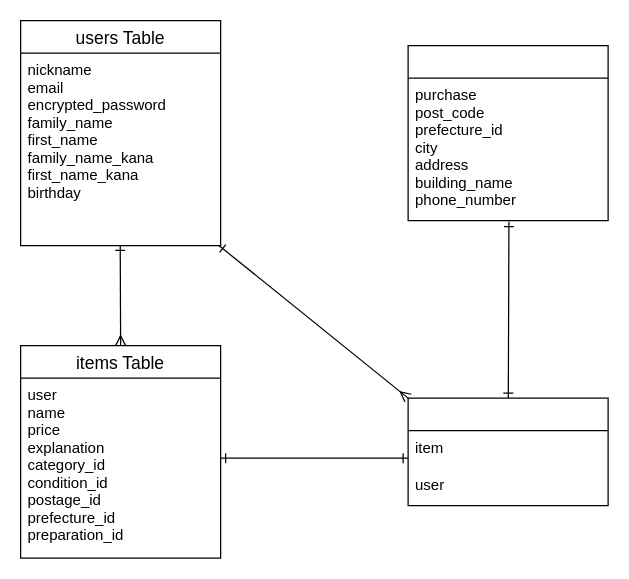
Image size: 629x579. Some labels were removed from this diagram. Each missing label, with the box of its shape:
addresses Table: (407, 44, 608, 221)
purchases Table: (407, 397, 608, 506)
